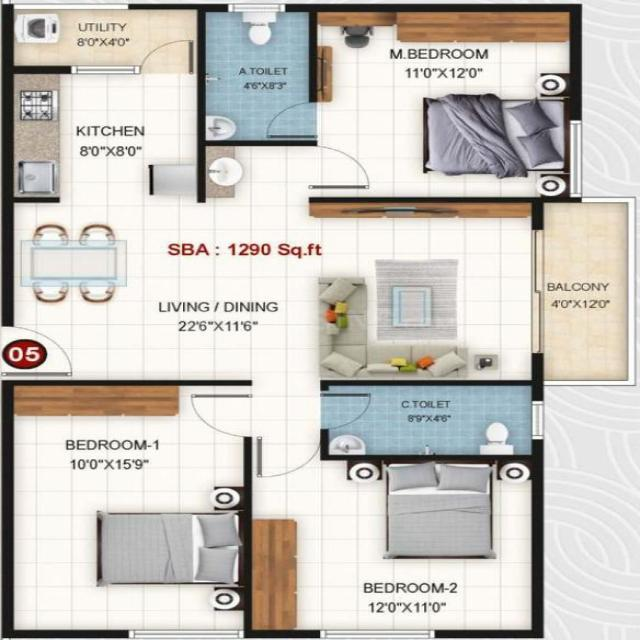Balcony-Sitout: (544, 203, 630, 381)
Bedroom: (13, 385, 243, 630), (252, 460, 532, 630)
Bedroom with Toilet: (202, 8, 576, 200)
Dining: (10, 219, 144, 306)
Enterance-Foyer: (1, 324, 137, 380)
Kitchen: (13, 74, 200, 198)
Living: (261, 205, 530, 379)
Toilet: (323, 385, 529, 454), (206, 12, 316, 140)
Utility: (12, 9, 200, 72)
